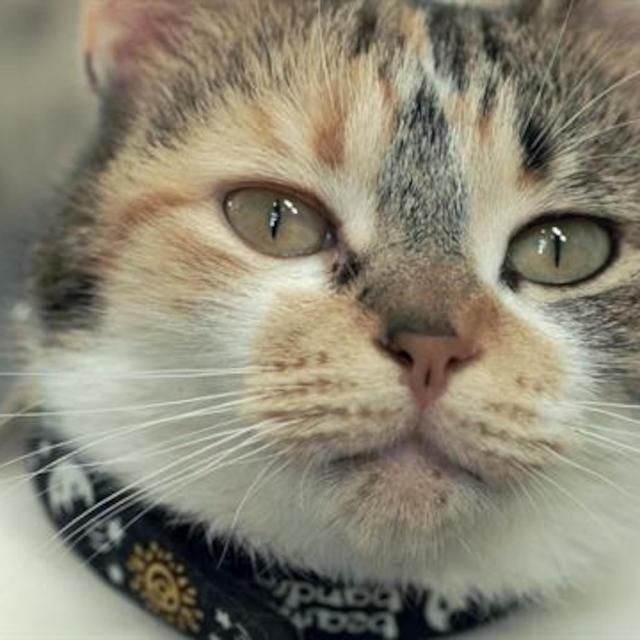cat: (18, 4, 640, 592)
